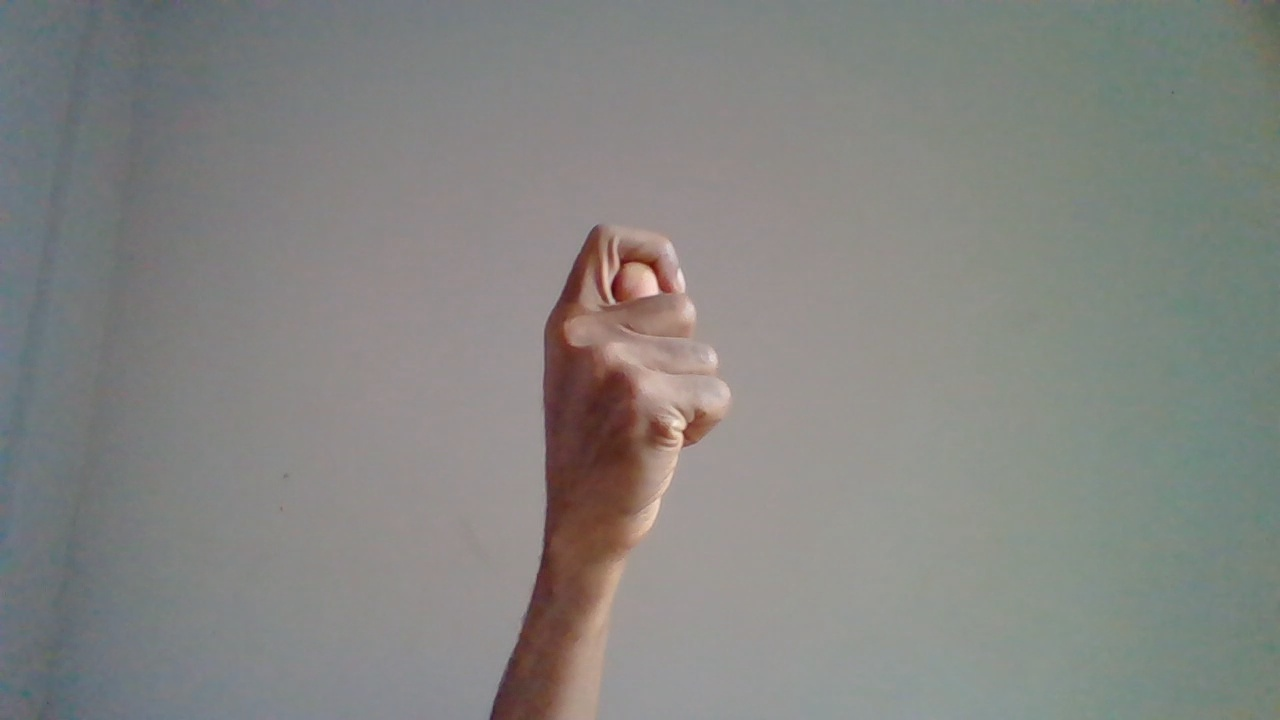che: (539, 221, 731, 689)
